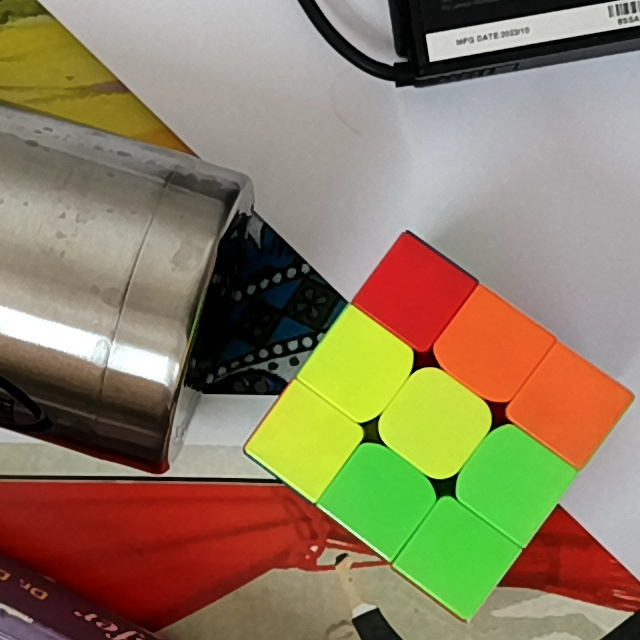tile: (400, 391, 468, 455), (536, 374, 602, 439), (478, 449, 546, 511), (457, 316, 523, 379), (425, 526, 491, 589), (346, 464, 412, 527), (274, 408, 336, 470), (381, 265, 445, 325), (328, 337, 390, 398)
